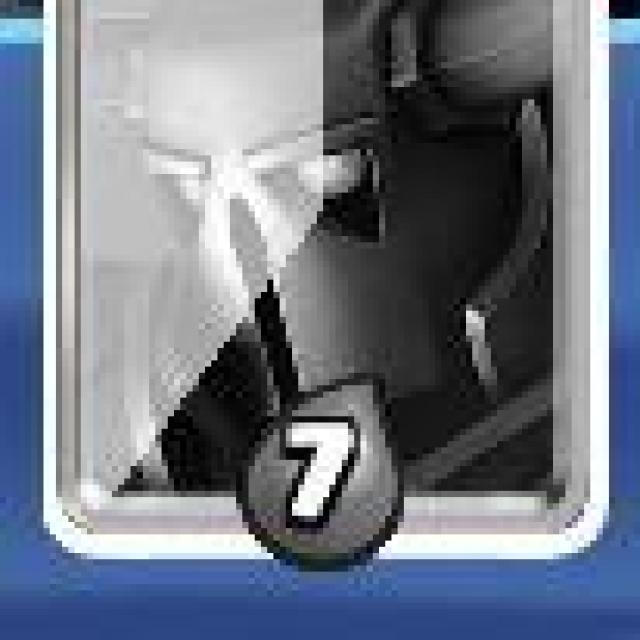Pekka: (43, 0, 610, 562)
